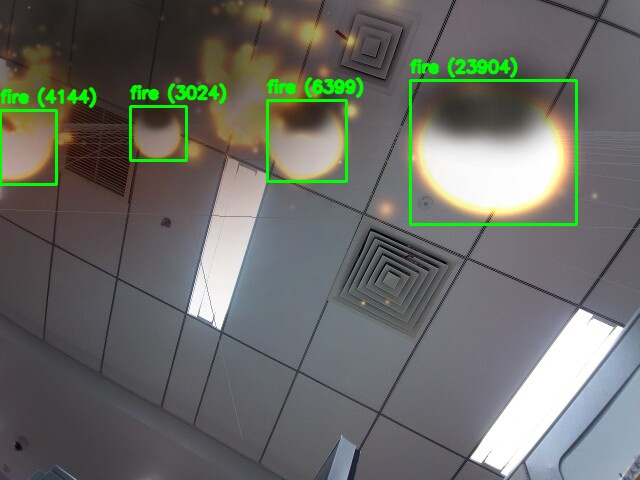fire: (410, 80, 576, 224), (267, 100, 346, 181), (0, 110, 56, 184), (130, 106, 186, 160)
